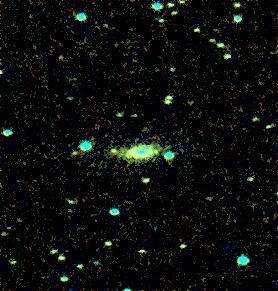star: (141, 138, 171, 168)
